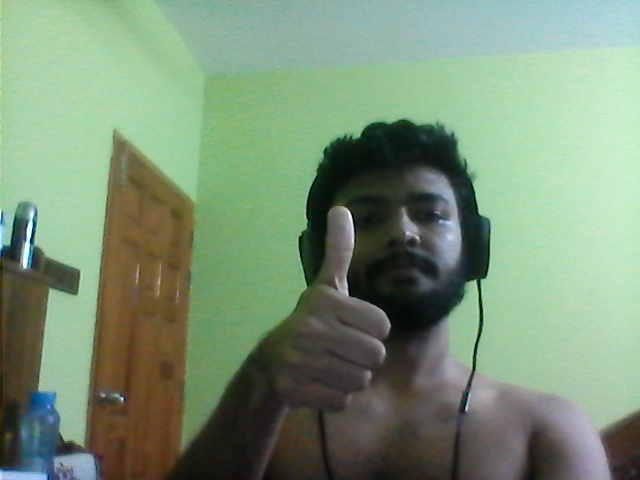Yes: (260, 204, 398, 415)
